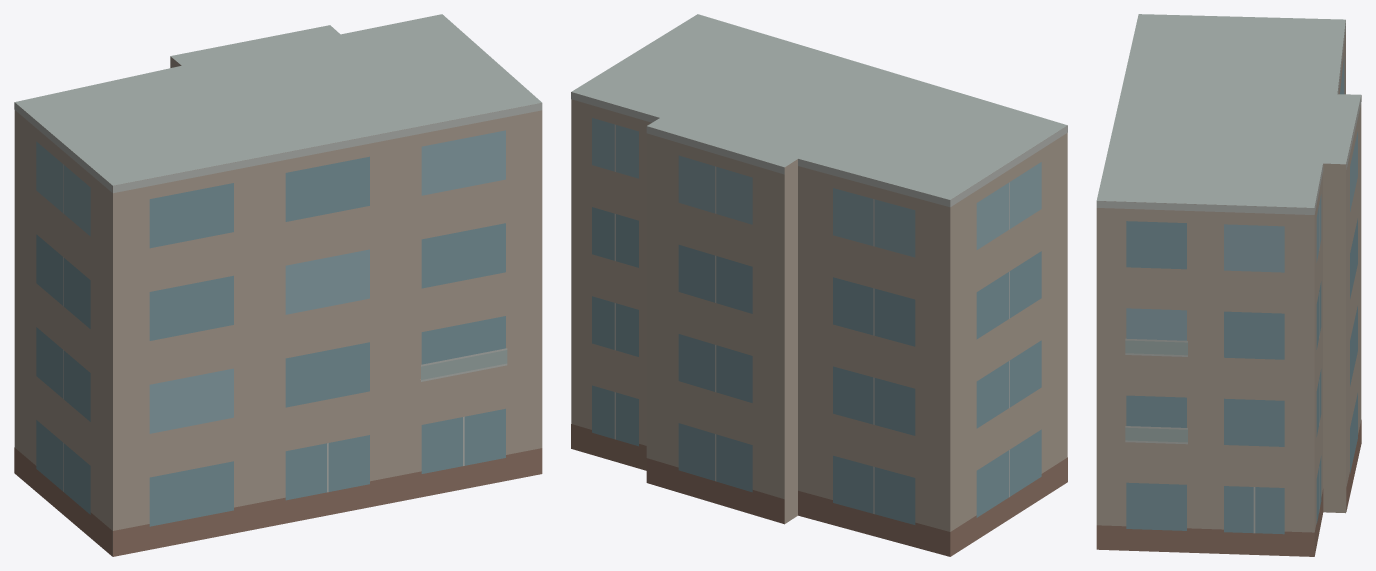
Rendered from survey-upis-32709768.glb.
3 renders of one model, left to right at view 1: azimuth 30°, elevation 25°; view 2: azimuth 150°, elevation 25°; view 3: azimuth 270°, elevation 25°, orthographic. The views are drawn at different scales.
Visible parts, largest first — view 1: survey-upis-32709768.tmp; view 2: survey-upis-32709768.tmp; view 3: survey-upis-32709768.tmp.
Part boxes in pixels (bbox=[...]): survey-upis-32709768.tmp: bbox=[14, 14, 542, 556]; survey-upis-32709768.tmp: bbox=[571, 14, 1067, 556]; survey-upis-32709768.tmp: bbox=[1096, 14, 1361, 556].
Bounding box in the file's own units: 14.32 × 12 × 8.27.
